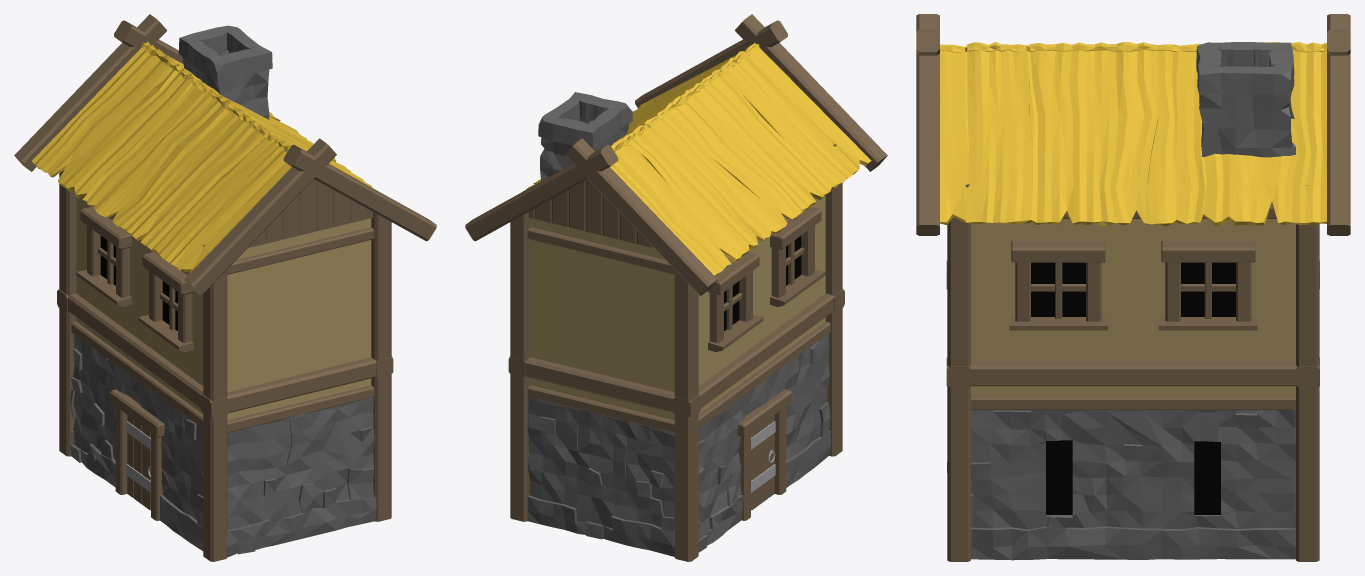
Rendered from House 9.fbx.
3 views of the same model, side by side, from view 1: azimuth 30°, elevation 25°; view 2: azimuth 150°, elevation 25°; view 3: azimuth 270°, elevation 25° (orthographic). The views are drawn at different scales.
Parts seen in each view (by area): view 1: House 9; view 2: House 9; view 3: House 9.
Part boxes in pixels (<box>): House 9: <box>14,14,436,561</box>; House 9: <box>465,14,887,561</box>; House 9: <box>916,14,1350,561</box>.
Bounding box in the file's own units: 5.28 × 8.27 × 6.69.
